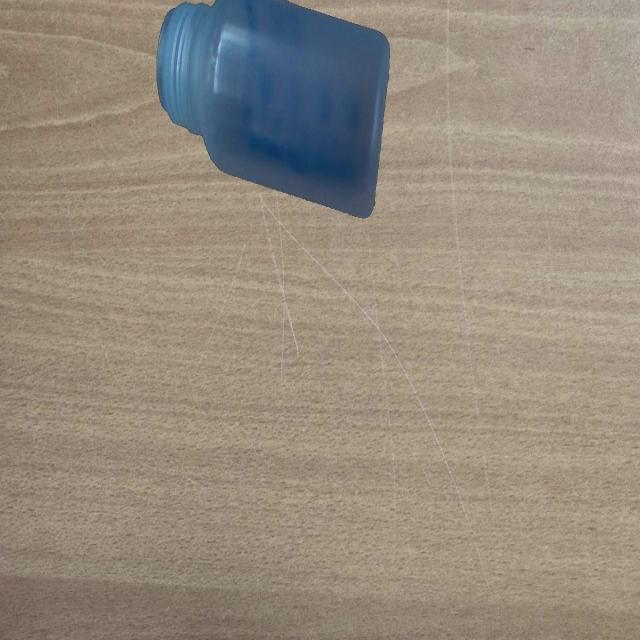bottle: (154, 0, 392, 222)
